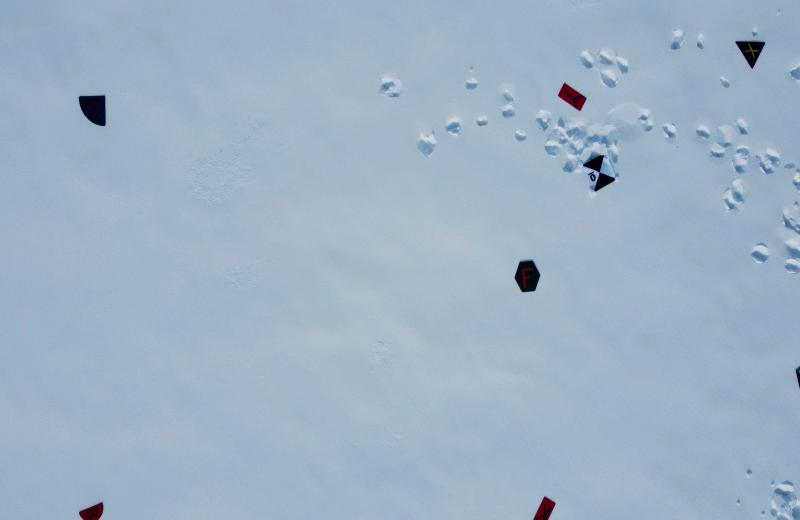Hexagon: (514, 258, 540, 296)
Quarter Circle: (77, 91, 108, 128)
Rectangle: (557, 82, 588, 112), (532, 492, 555, 520)
Semi Circle: (78, 502, 106, 520)
Triangle: (735, 38, 765, 72)
